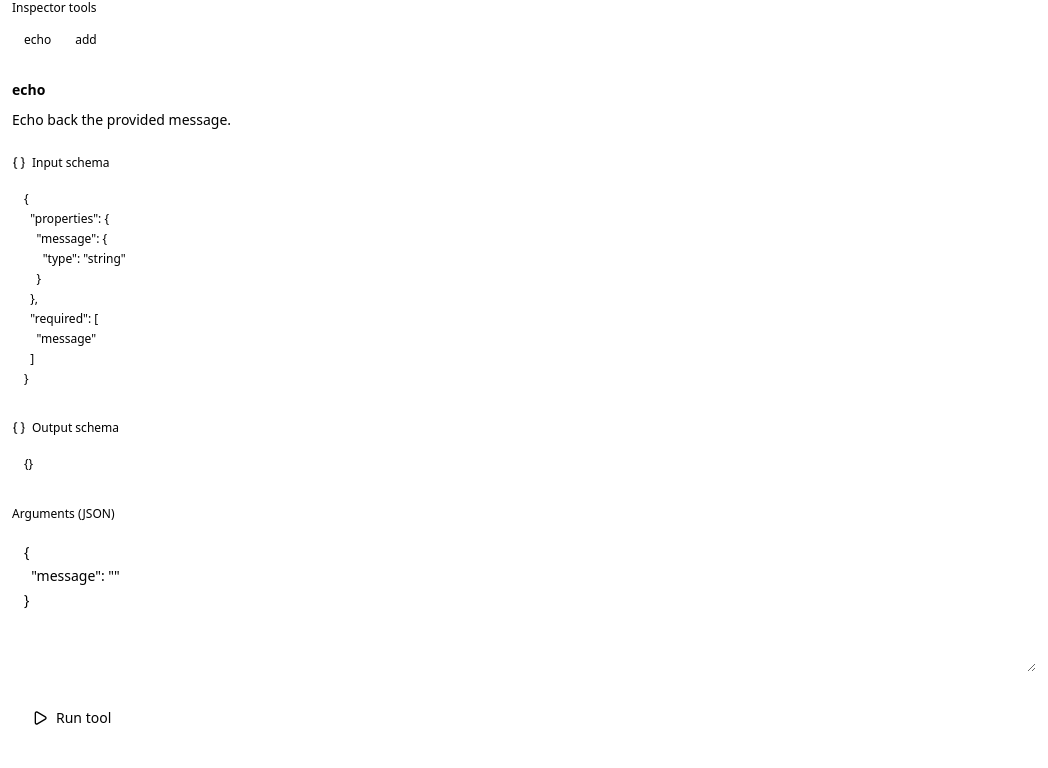
Test: ToolPlayground › shows a clean direct-runtime error for invalidToolCall without a sandbox instruction
Click the button "Run tool". click: (72, 718)
box: [12,698,131,738]
(page scrolled)
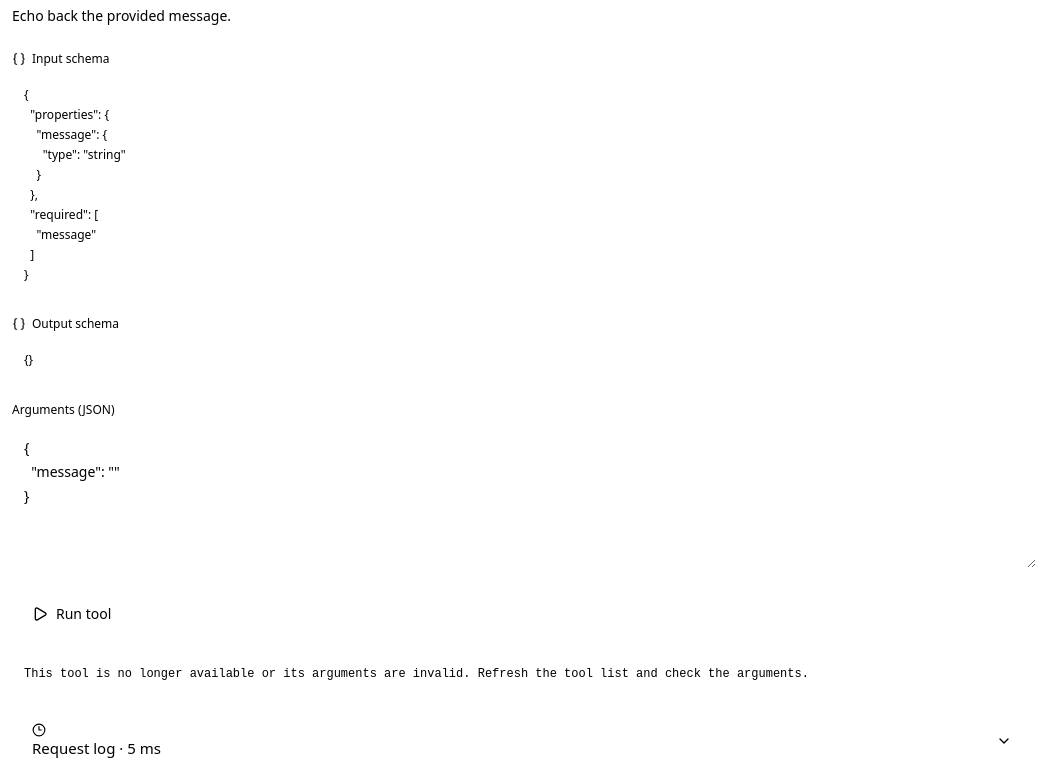
expect the text "tool is no longer available" is shown: met, box [24,667,809,681]
